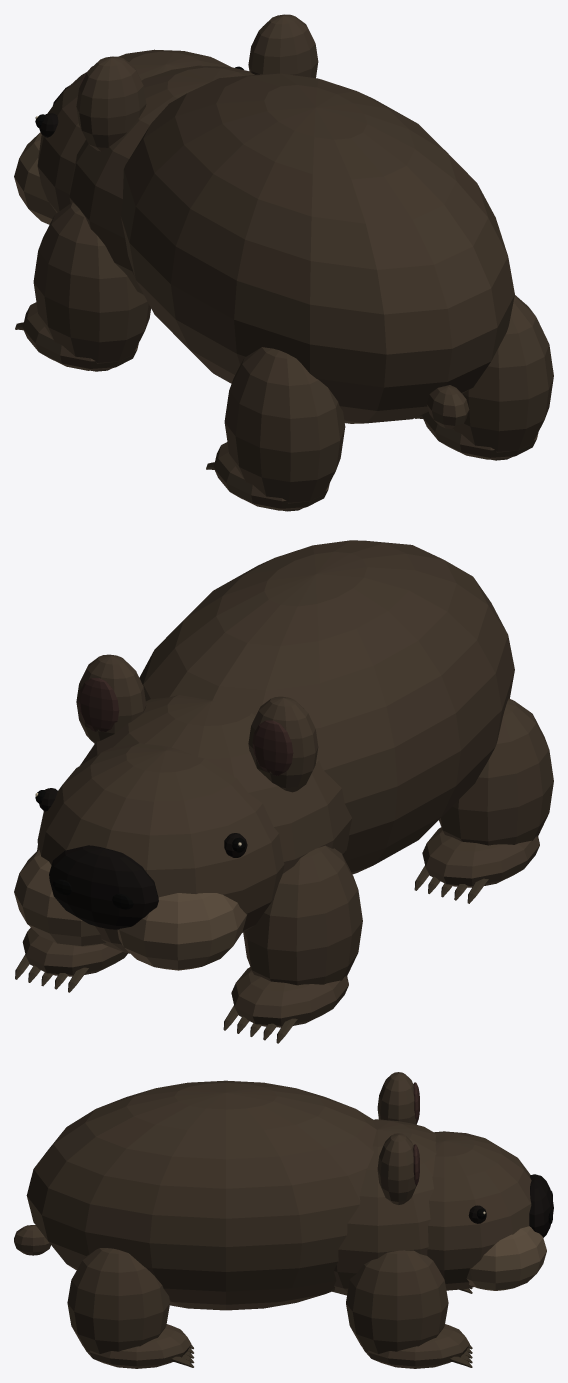
File: wombat.dae
3 views of the same model, one above another, from view 1: azimuth 30°, elevation 25°; view 2: azimuth 150°, elevation 25°; view 3: azimuth 270°, elevation 25° (orthographic). The views are drawn at different scales.
Visible parts, largest first — view 1: Node; view 2: Node; view 3: Node.
Boxes of the visible parts, box(x1,y1,x2,y2) form: Node: box(14, 14, 553, 511); Node: box(14, 540, 553, 1043); Node: box(14, 1072, 553, 1368).
Size of the model in its own units: 0.5031 by 1.05 by 0.5006.
